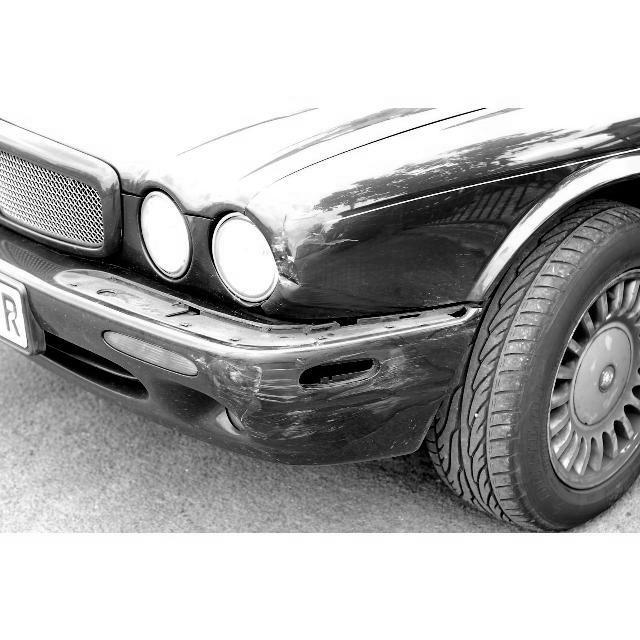front-bumper-dent: (163, 307, 417, 463)
